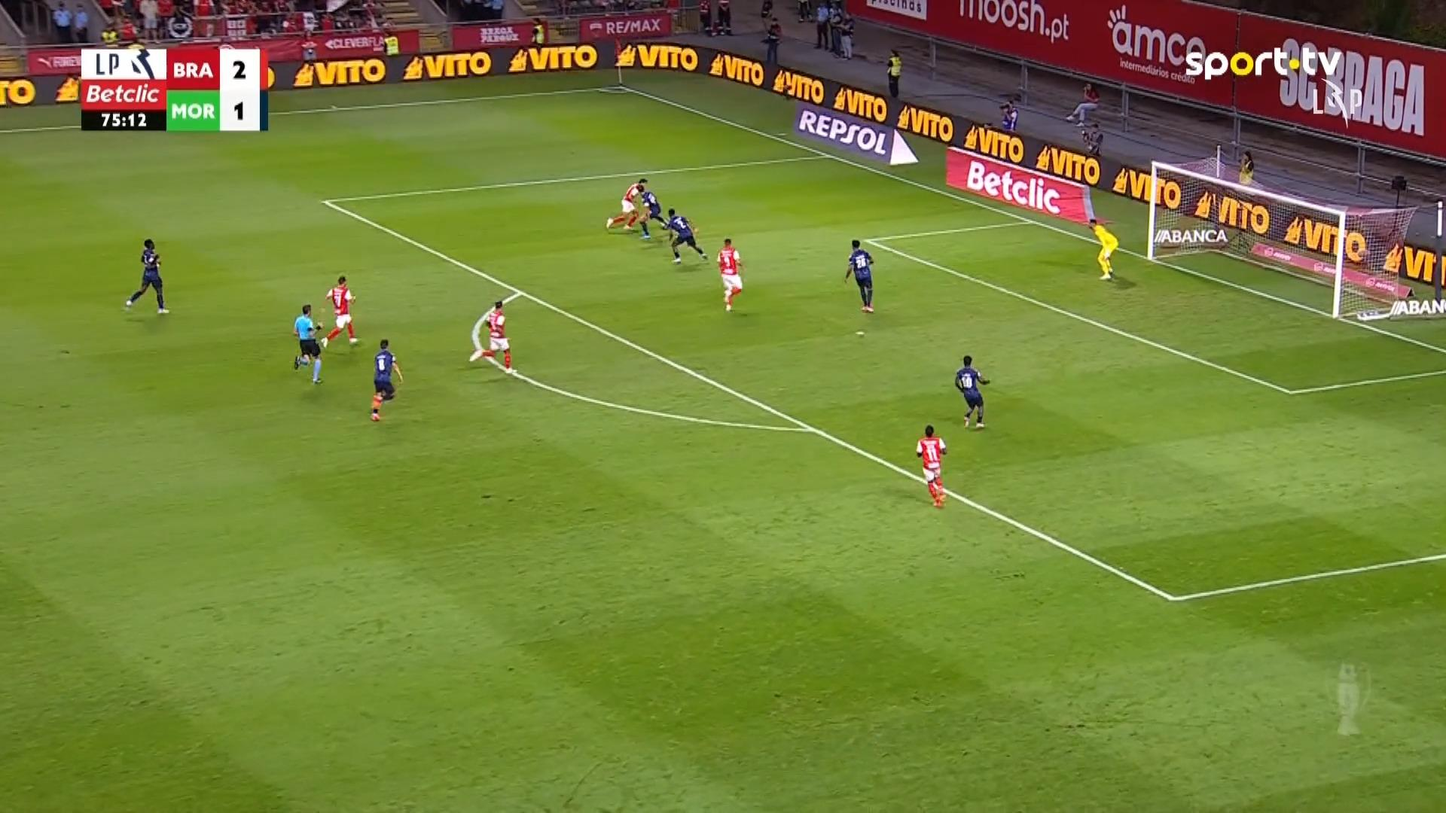goalkeeper: (1086, 216, 1118, 280)
player: (468, 300, 517, 374), (124, 238, 170, 314), (368, 338, 403, 421), (320, 275, 358, 348), (954, 354, 990, 428), (915, 424, 947, 507), (663, 206, 708, 263), (843, 239, 875, 312), (605, 178, 646, 232), (716, 237, 744, 312), (637, 188, 670, 239)
referee: (292, 303, 325, 383)
